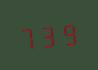nine: (59, 19, 78, 47)
seven: (18, 22, 37, 50)
three: (39, 20, 58, 49)
